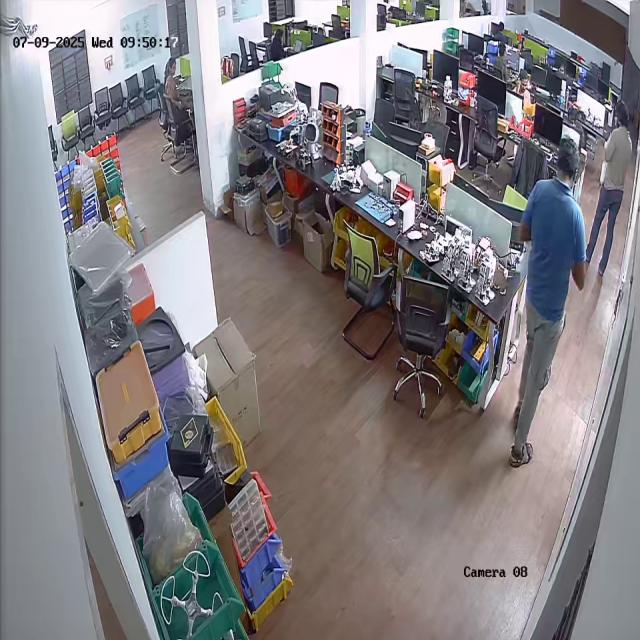person: (502, 138, 584, 467), (586, 101, 633, 268)
